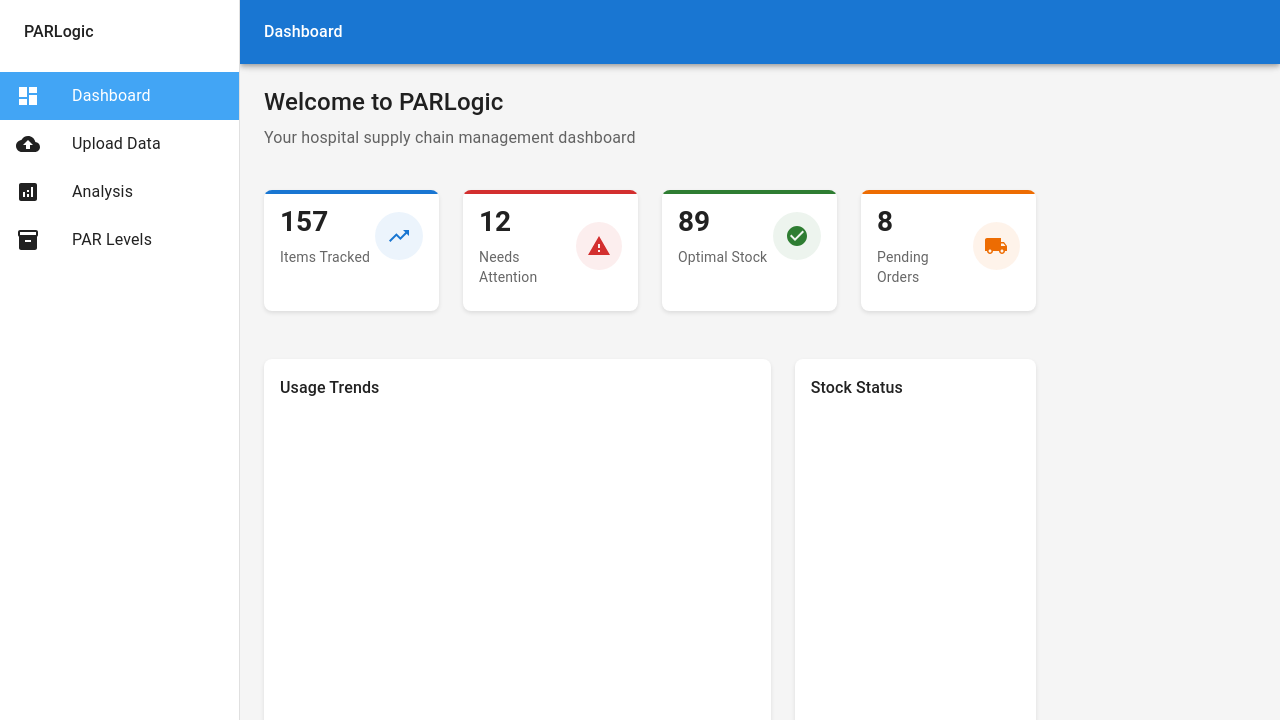
Scenario: Navigation › should navigate to Analysis page
The width and height of the screenshot is (1280, 720).
What coordinates should you click on to do the following:
click the text "Analysis"
I would click on:
 (103, 192)
Its box is [72,182,133,201].
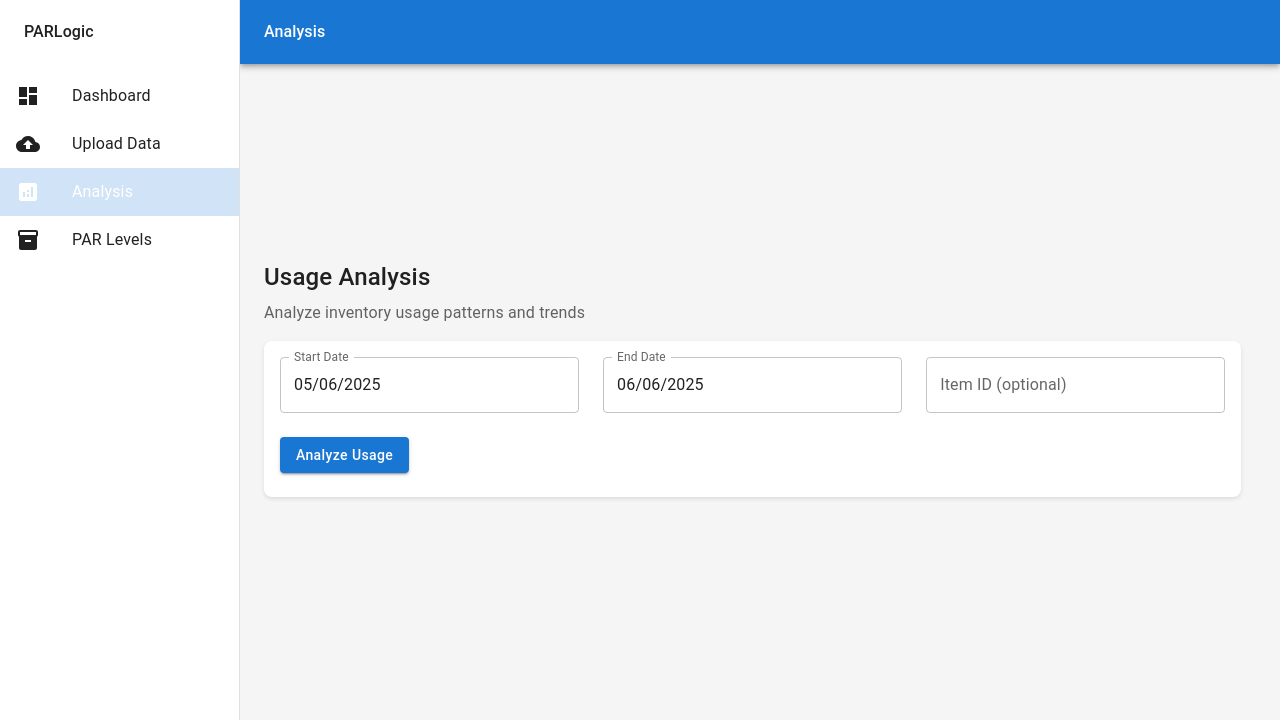
Now the heading "Usage Analysis" is shown, box [264,263,430,291]
